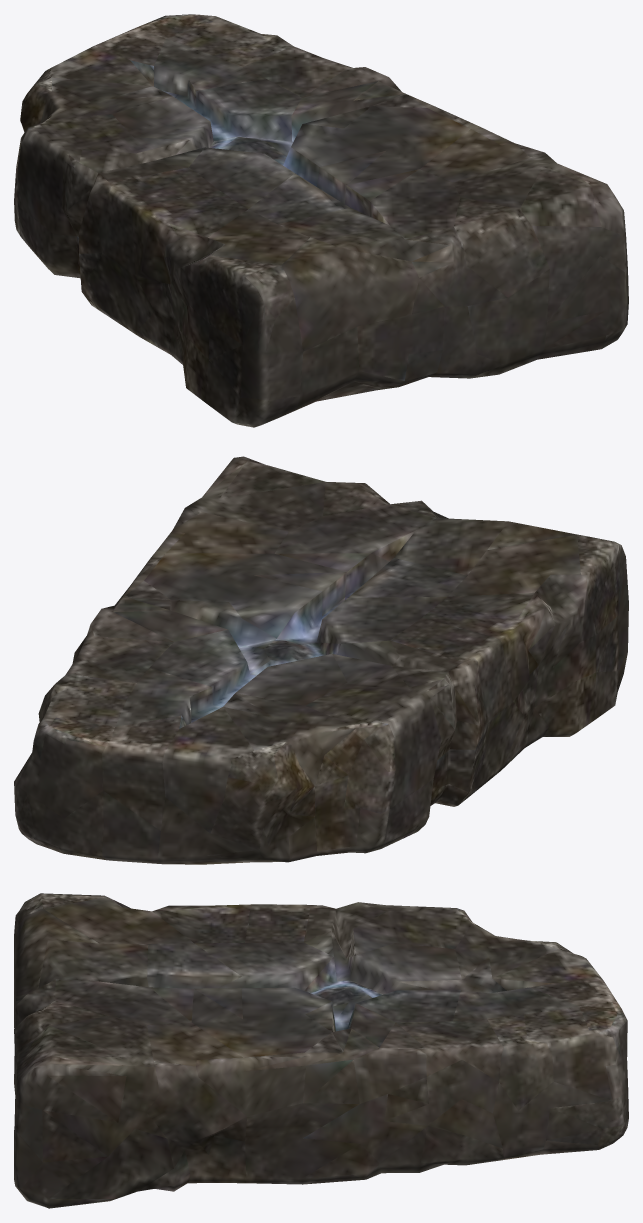
The model's file is g_rune.glb.
3 views of the same model, one above another, from view 1: azimuth 30°, elevation 25°; view 2: azimuth 150°, elevation 25°; view 3: azimuth 270°, elevation 25° (orthographic). The views are drawn at different scales.
Visible parts, largest first — view 1: g_rune; view 2: g_rune; view 3: g_rune.
Boxes of the visible parts, left/top/right/bottom form: g_rune: left=14, top=14, right=628, bottom=427; g_rune: left=14, top=456, right=628, bottom=864; g_rune: left=14, top=893, right=628, bottom=1208.
Size of the model in its own units: 0.1566 by 0.06 by 0.2265.
Materials: 1 (1 with a texture image).
